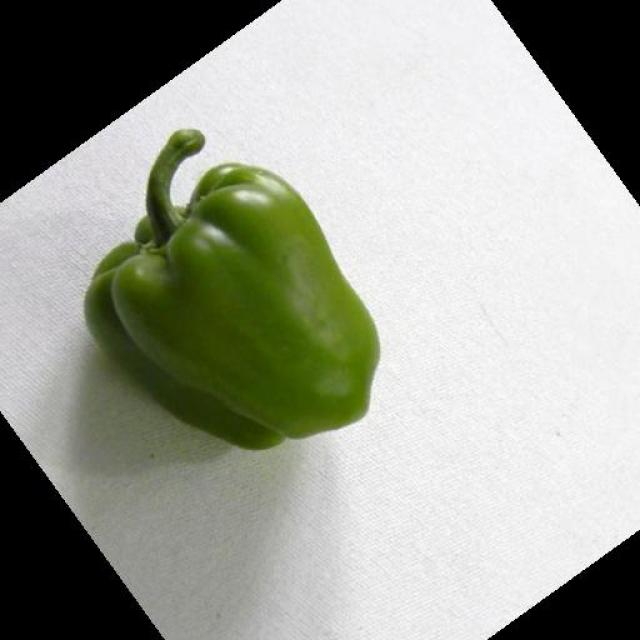Fresh_Capsicum: (97, 103, 381, 451)
